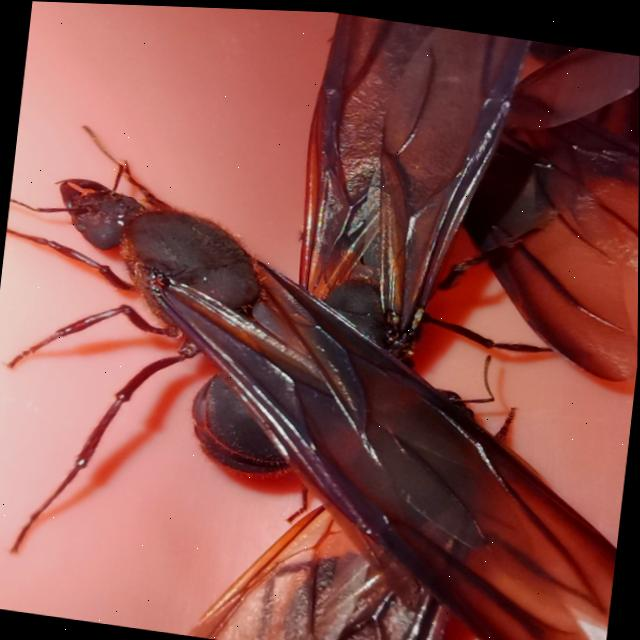Alive-Female-Alate: (0, 113, 639, 640), (179, 5, 626, 561), (184, 312, 633, 640), (292, 9, 640, 379)
